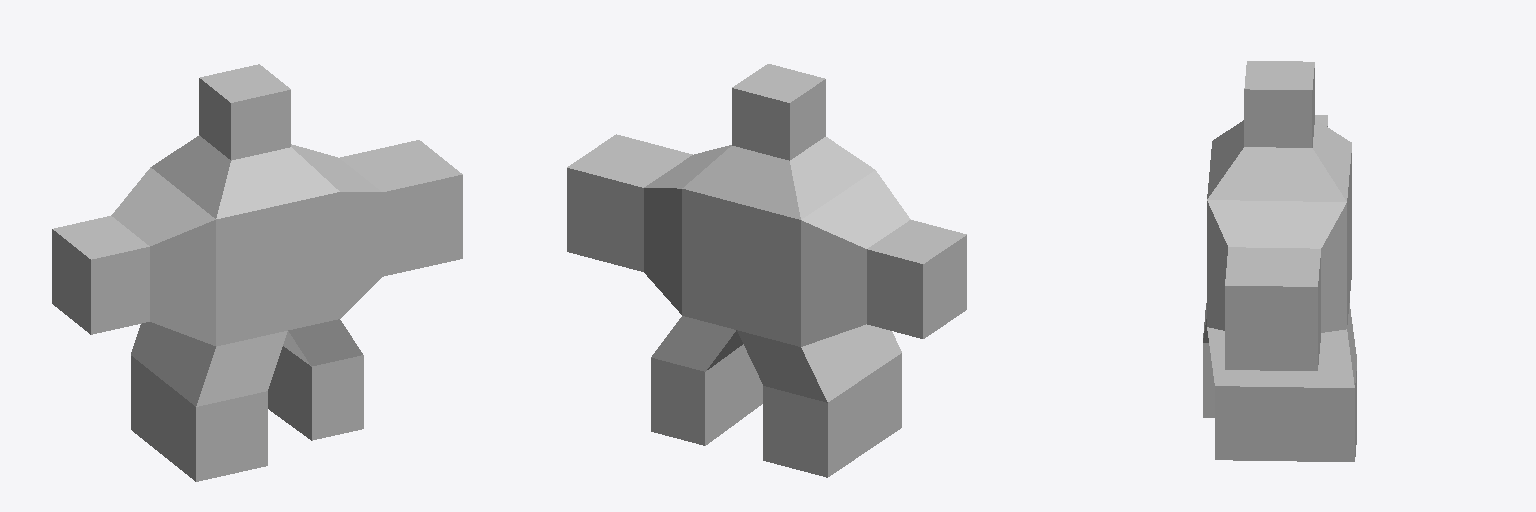
The model's file is robot.obj.
3 renders of one model, left to right at view 1: azimuth 30°, elevation 25°; view 2: azimuth 150°, elevation 25°; view 3: azimuth 270°, elevation 25°, orthographic.
Visible parts, largest first — view 1: Cube; view 2: Cube; view 3: Cube.
Boxes of the visible parts, x1=… form: Cube: x1=52, y1=64, x2=462, y2=481; Cube: x1=567, y1=64, x2=966, y2=477; Cube: x1=1203, y1=61, x2=1356, y2=461.
Bounding box in the file's own units: 6 × 5.51 × 2.21.